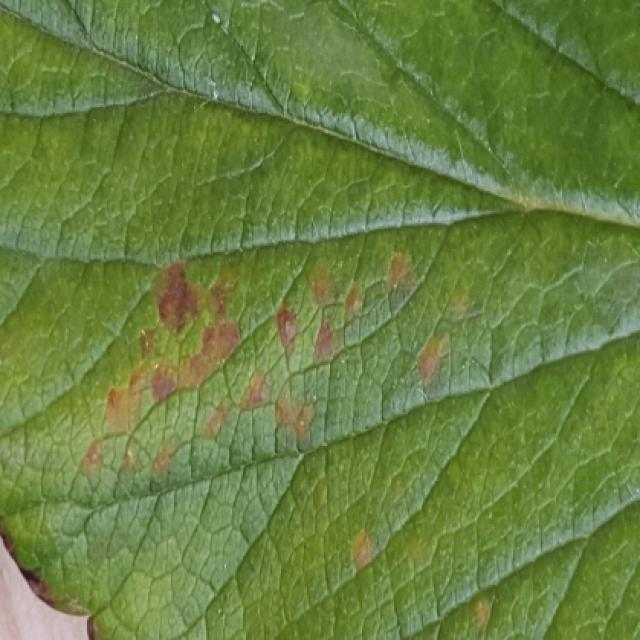Angular Leafspot: (75, 222, 499, 633)
